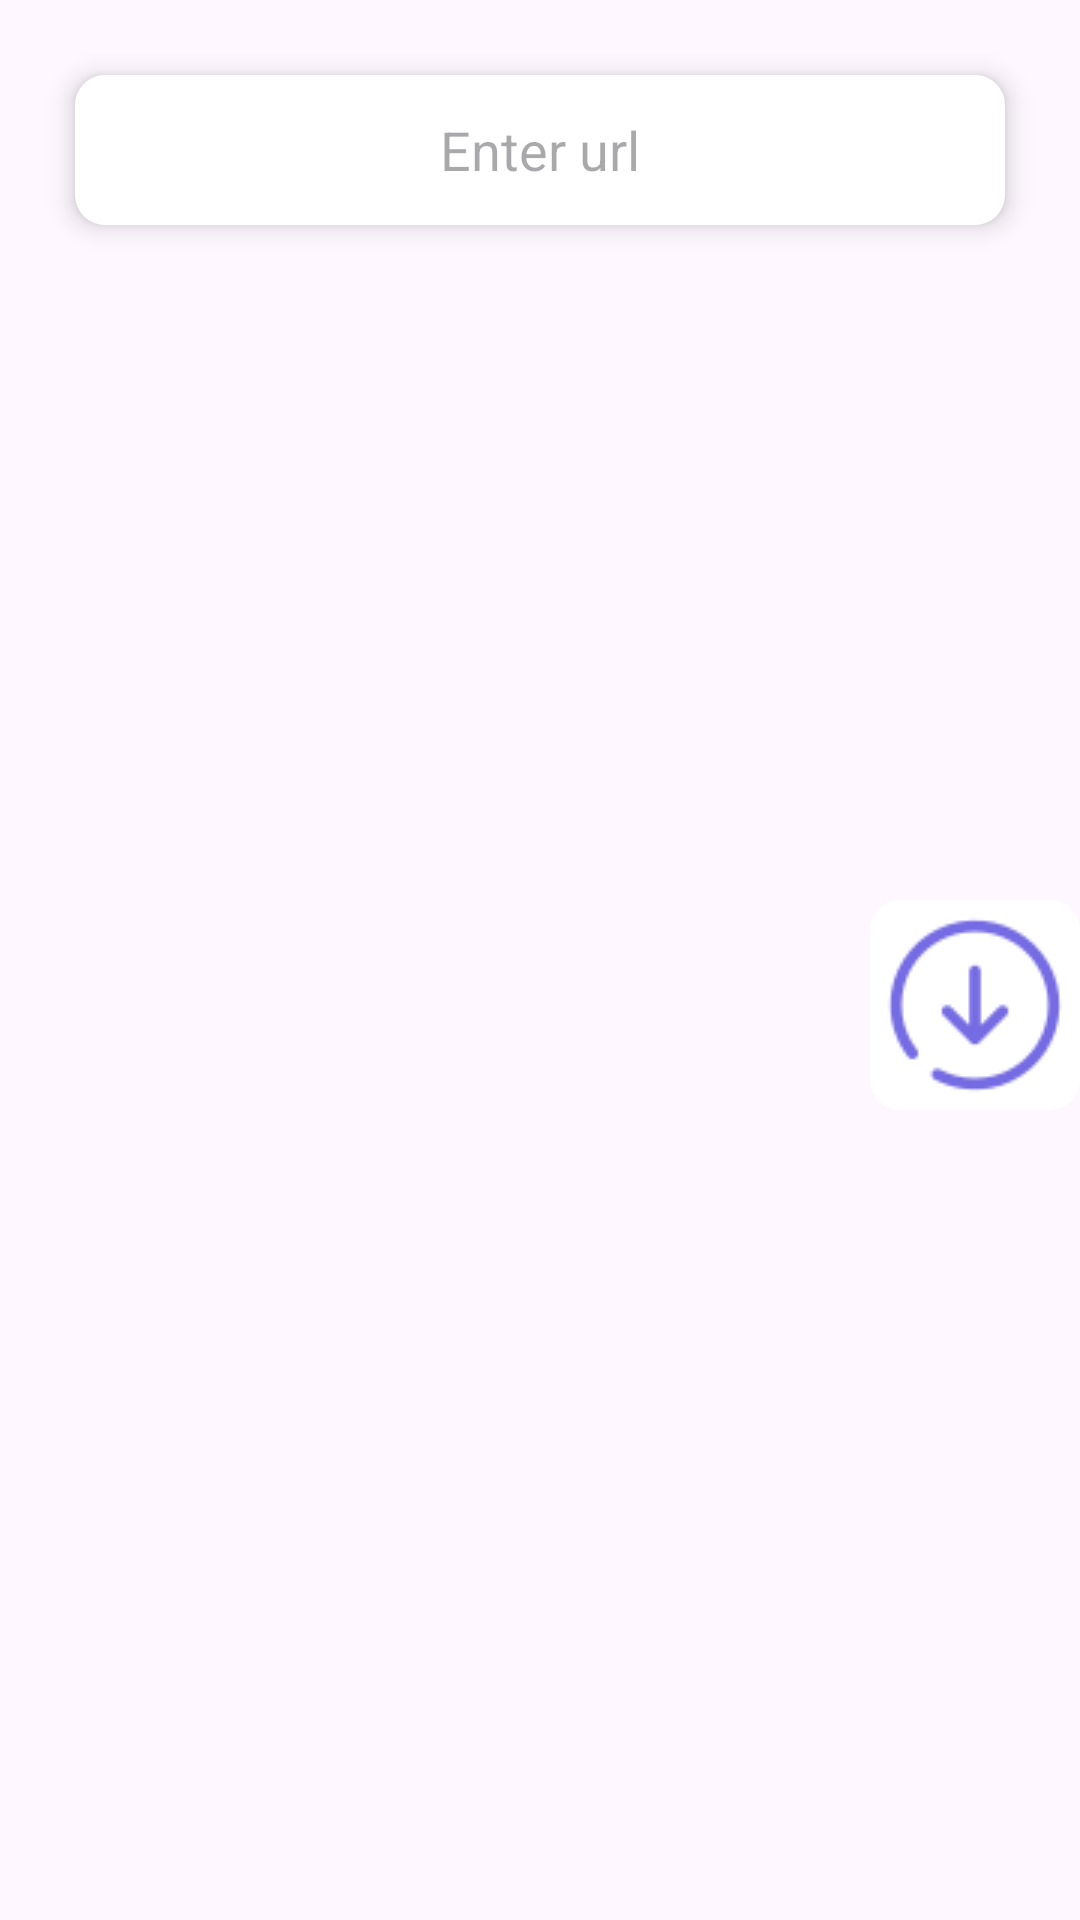

Where to tap for icons on this 1080 × 1920 app screen, as (x=x, y=y):
arrow: (x=975, y=1005)
